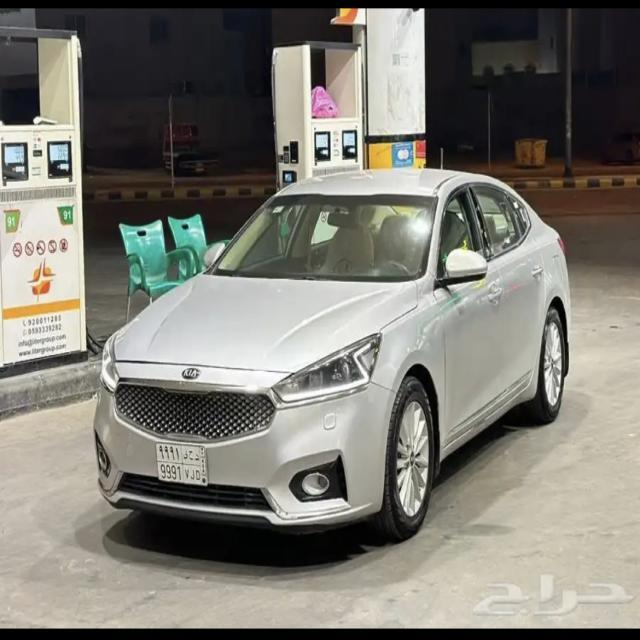license_plate: (154, 442, 208, 488)
